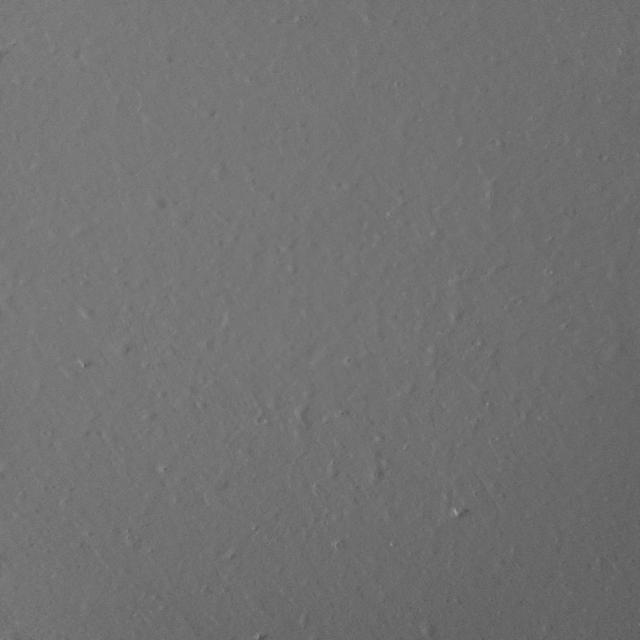rough and patchy surface: (36, 262, 542, 596)
